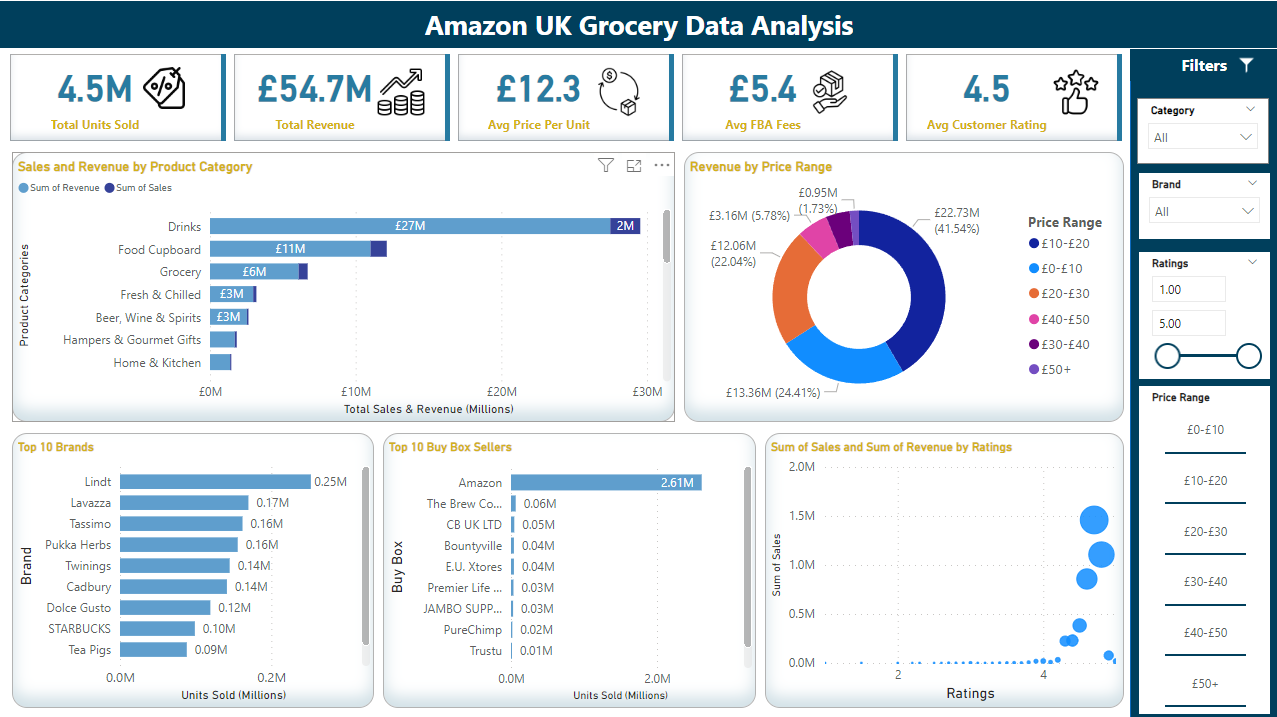

The dashboard page shown, as its layout file describes it:
{"tool":"powerbi","page":{"name":"Overview","canvas":[1280,720],"ordinal":0},"visuals":[{"type":"shape","box":[1131.9,49.3,147.8,670.7],"z":0},{"type":"textbox","box":[0,0,1279.7,49.3],"z":1000},{"type":"clusteredBarChart","title":"Revenue by Product Category","fields":{"Category":["Data.Category"],"Y":["Sum(Data.Revenue)"]},"box":[15,151.7,661.7,270],"z":2000},{"type":"donutChart","title":"Revenue by Price Range","fields":{"Category":["Data.Price Range"],"Y":["Sum(Data.Revenue)"]},"box":[686.7,151.7,438.3,270],"z":3000},{"type":"barChart","title":"Top 10 Brands: Sales","fields":{"Category":["Data.Brand"],"Y":["Sum(Data.Sales)"]},"box":[388.3,431.7,363.3,275],"z":4000},{"type":"barChart","title":"Top 10 Buy Box Sellers: Sales","fields":{"Category":["Data.Buy Box"],"Y":["Sum(Data.Sales)"]},"box":[15,431.7,363.3,275],"z":5000},{"type":"cardVisual","fields":{"Data":["Data.Total Units Sold","Data.Total Revenue","Data.Avg Price Per Unit","Data.Avg FBA Fees","Data.Avg Customer Rating"]},"box":[7.1,49.4,1124.8,95.7],"z":6000},{"type":"slicer","fields":{"Values":["Data.Brand"]},"box":[1140.9,172.8,131,66.3],"z":7000},{"type":"slicer","fields":{"Values":["Data.Ratings"]},"box":[1140.9,251.6,130.7,127.2],"z":8000},{"type":"slicer","fields":{"Values":["Data.Price Range"]},"box":[1140.9,386,130.7,327.8],"z":9000},{"type":"textbox","box":[1131.9,49.3,147.8,31.3],"z":10000},{"type":"slicer","fields":{"Values":["Data.Category"]},"box":[1139.1,97.6,131.6,66.3],"z":11000},{"type":"image","box":[1233.1,49.3,30.4,31.3],"z":12000},{"type":"treemap","title":"Top 10 Products: High Ratings & Reviews (>20k)","fields":{"Group":["Data.Product Details"],"Values":["Avg(Data.Ratings)"]},"box":[756.7,431.7,370,275],"z":13000}]}

Visuals, with their boxes in screenshot pixels (x1, y1, x2, y2), scaled from the page's 1280x720 canvas onto the 1277x717 screenshot:
shape: crop(1129, 49, 1276, 716)
textbox: crop(0, 0, 1276, 49)
"Revenue by Product Category" clusteredBarChart: crop(15, 151, 675, 420)
"Revenue by Price Range" donutChart: crop(685, 151, 1122, 420)
"Top 10 Brands: Sales" barChart: crop(387, 430, 750, 704)
"Top 10 Buy Box Sellers: Sales" barChart: crop(15, 430, 377, 704)
cardVisual - Data.Total Units Sold x Data.Total Revenue: crop(7, 49, 1129, 144)
slicer - Data.Brand: crop(1138, 172, 1269, 238)
slicer - Data.Ratings: crop(1138, 251, 1269, 377)
slicer - Data.Price Range: crop(1138, 384, 1269, 711)
textbox: crop(1129, 49, 1276, 80)
slicer - Data.Category: crop(1136, 97, 1268, 163)
image: crop(1230, 49, 1261, 80)
"Top 10 Products: High Ratings & Reviews (>20k)" treemap: crop(755, 430, 1124, 704)
